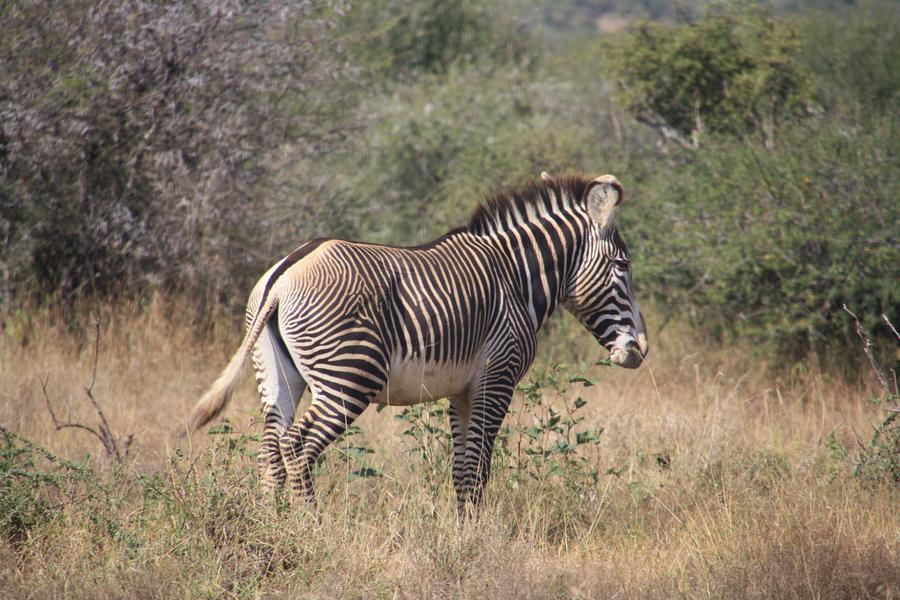zebra_grevys: (267, 234, 528, 369)
